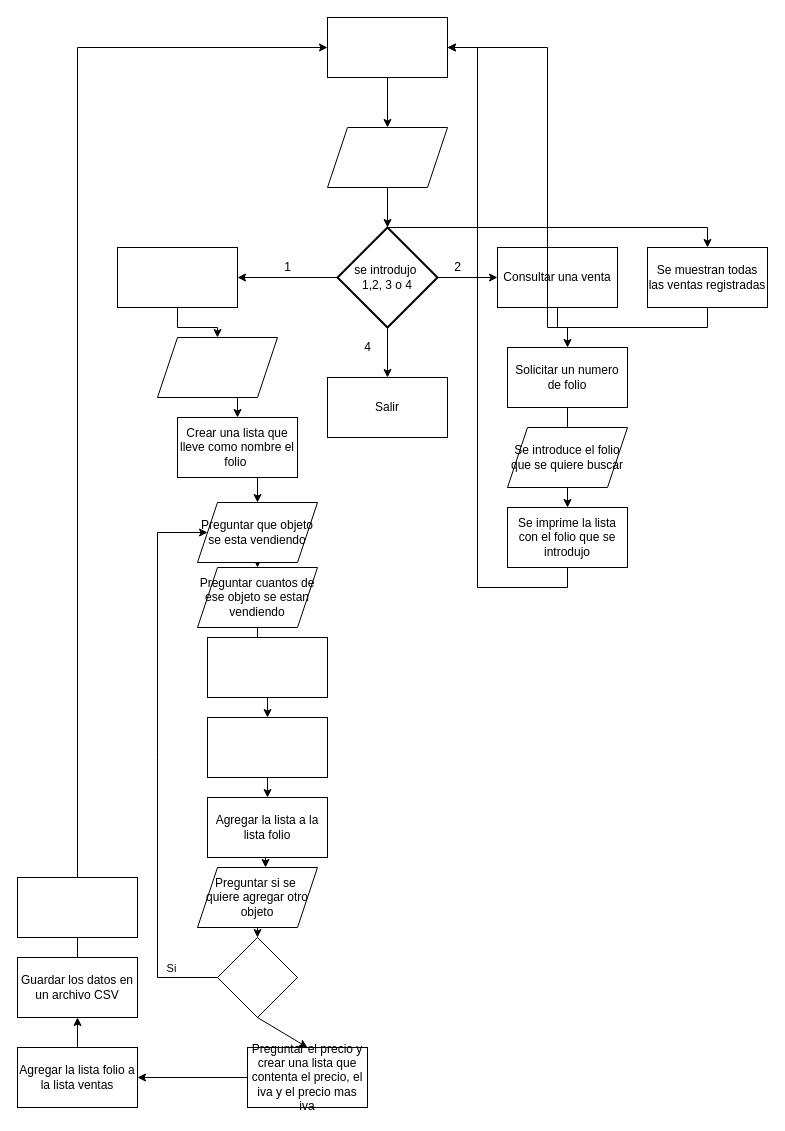
Image size: 785x1131. Some labels were removed from this diagram. Here are the shapes that lost their labels. From the top down, the box of each, then its label:
(326, 16, 448, 78): Se despliega menu de opciones
(326, 126, 448, 188): Se introduce opcioon 1,2 o 3
(116, 246, 238, 308): Registrar una venta
(156, 336, 278, 398): Solicitar un folio
(206, 636, 328, 698): Crear una lista que lleve de nombre el objeto que se vendio
(206, 716, 328, 778): agregar el objeto y la cantidad a la lista
(16, 876, 138, 938): Guardar los datos en una base de datos utilizando sql
(216, 936, 298, 1018): si o no
